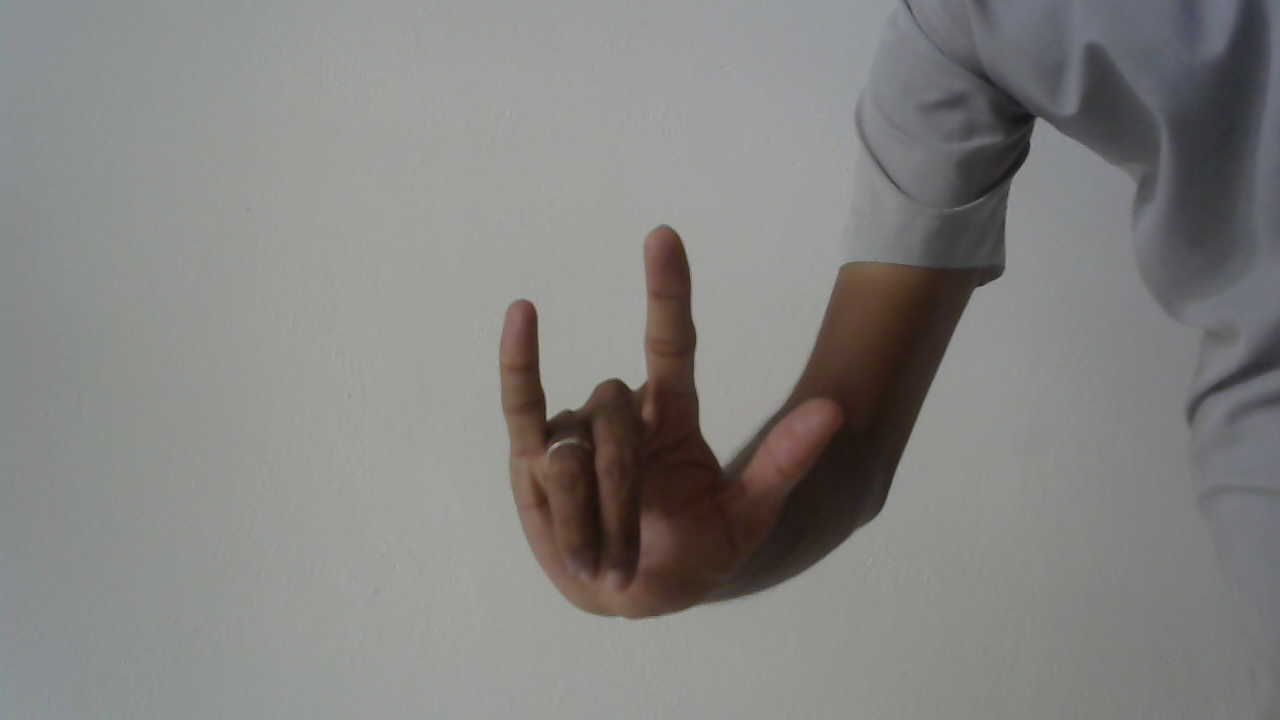iloveyou: (487, 224, 855, 630)
